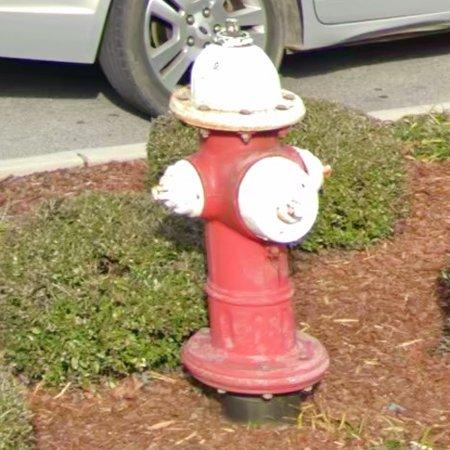a fire hydrant: (153, 19, 330, 399)
